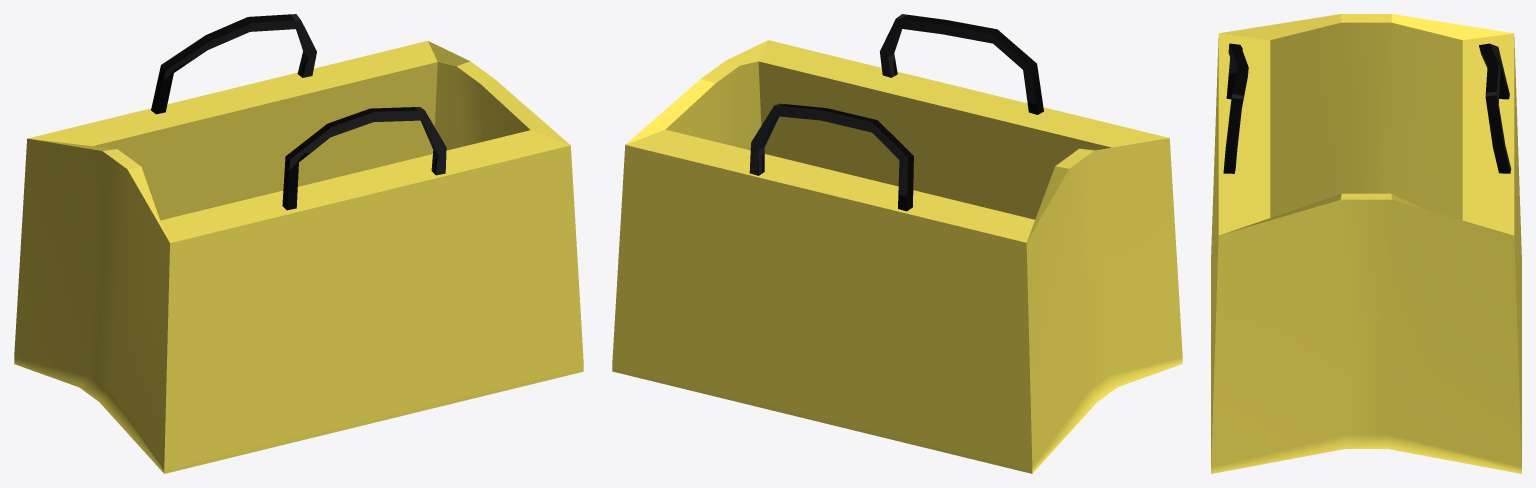
The model's file is Tas1.fbx.
3 renders of one model, left to right at view 1: azimuth 30°, elevation 25°; view 2: azimuth 150°, elevation 25°; view 3: azimuth 270°, elevation 25°, orthographic. The views are drawn at different scales.
Visible parts, largest first — view 1: pCube4; view 2: pCube4; view 3: pCube4.
Boxes of the visible parts, <box> form: pCube4: <box>14,14,583,473</box>; pCube4: <box>612,14,1182,473</box>; pCube4: <box>1211,14,1521,473</box>.
Bounding box in the file's own units: 13.09 × 8.98 × 8.12.
